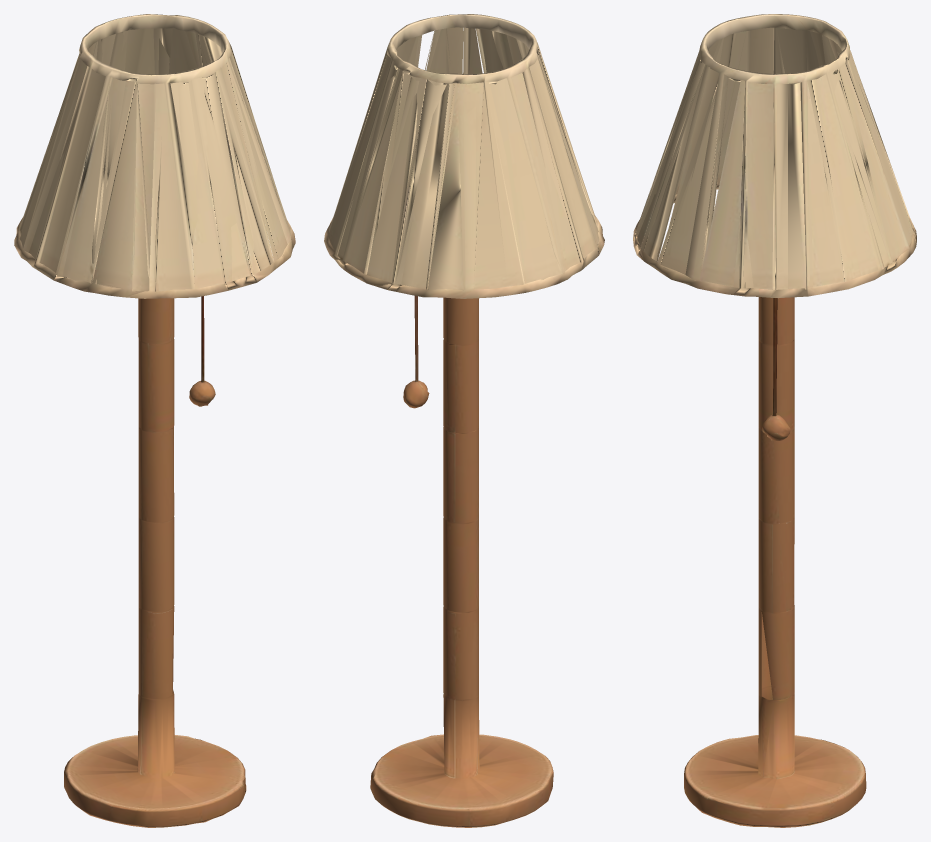
Rendered from item-floorLamp.glb.
The picture shows the model from 3 angles, left to right: view 1: azimuth 30°, elevation 25°; view 2: azimuth 150°, elevation 25°; view 3: azimuth 270°, elevation 25°; orthographic projection.
Size of the model in its own units: 0.3218 by 0.9517 by 0.3286.
1 material, 1 textured.
